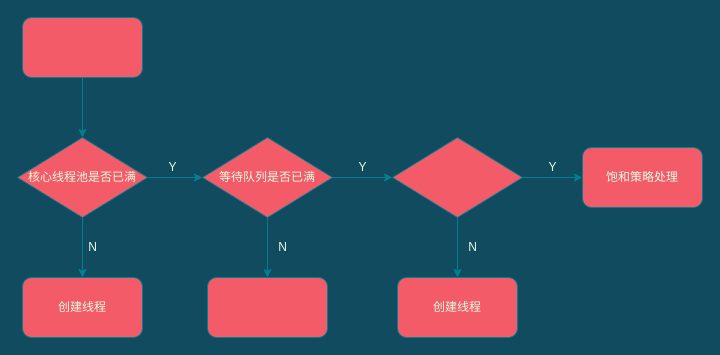
The diagram is 720 pixels wide and 355 high, and some of its shapes have lost their labels. The centre of each missing label's shape, as x and y in pixels:
"加入队列" belongs at point 267,307.
"提交任务" belongs at point 82,47.
"线程池是否已满" belongs at point 457,177.
